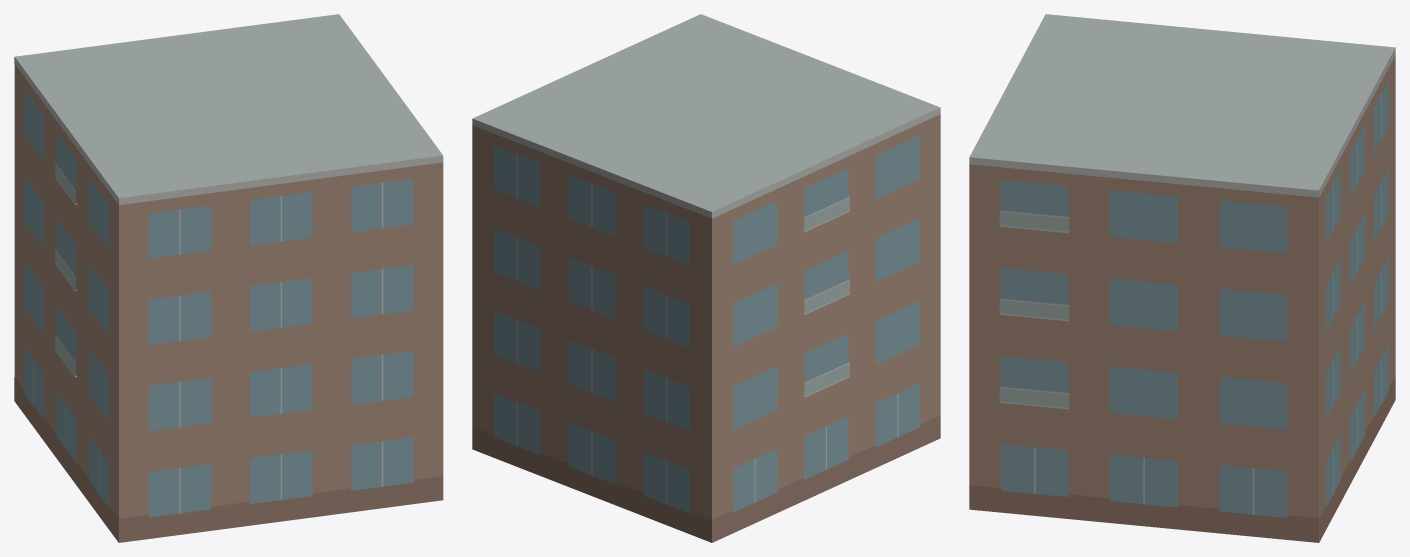
The model's file is residential-4dd2725c-c66d-404c-90e3-c32252fc2b0e.glb.
3 views of the same model, side by side, from view 1: azimuth 30°, elevation 25°; view 2: azimuth 150°, elevation 25°; view 3: azimuth 270°, elevation 25° (orthographic). The views are drawn at different scales.
Parts seen in each view (by area): view 1: residential-4dd2725c-c66d-404c-90e3-c32252fc2b0e.tmp; view 2: residential-4dd2725c-c66d-404c-90e3-c32252fc2b0e.tmp; view 3: residential-4dd2725c-c66d-404c-90e3-c32252fc2b0e.tmp.
Boxes of the visible parts, left/top/right/bottom form: residential-4dd2725c-c66d-404c-90e3-c32252fc2b0e.tmp: left=14, top=14, right=443, bottom=542; residential-4dd2725c-c66d-404c-90e3-c32252fc2b0e.tmp: left=472, top=14, right=940, bottom=542; residential-4dd2725c-c66d-404c-90e3-c32252fc2b0e.tmp: left=969, top=14, right=1395, bottom=542.
Bounding box in the file's own units: 13.13 × 12.2 × 13.39.
